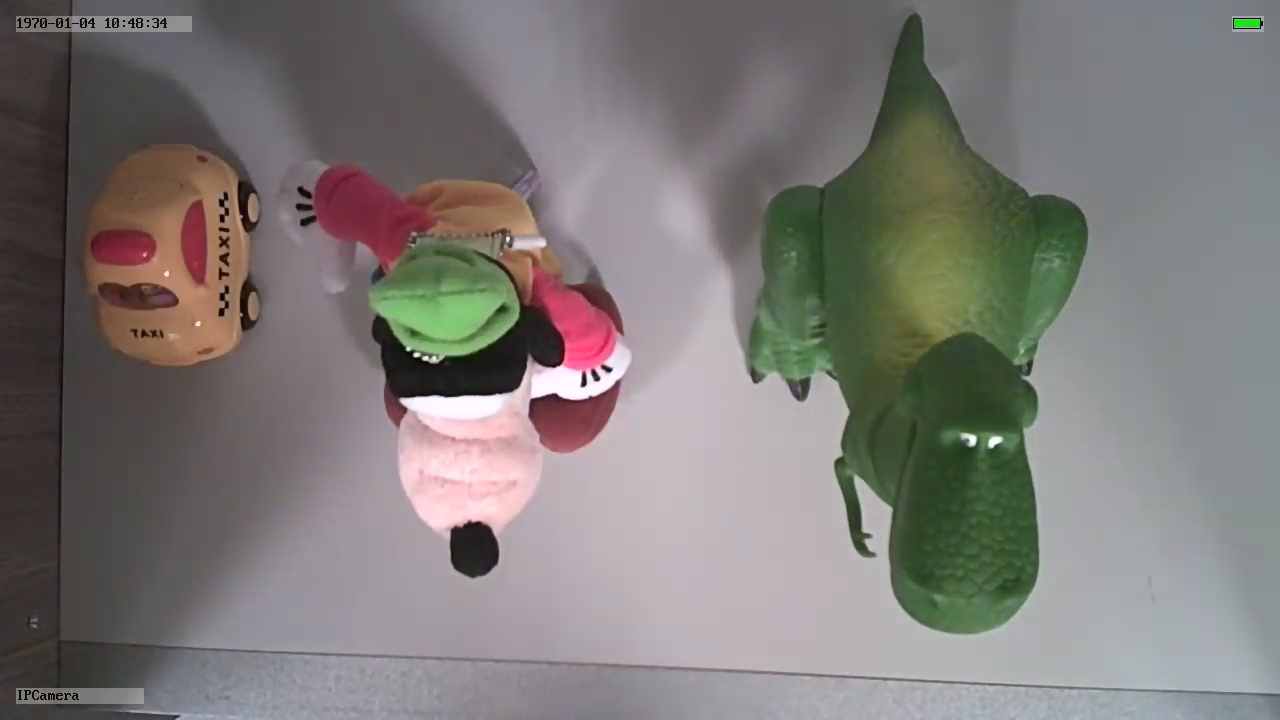car: (80, 138, 262, 371)
goofy: (278, 156, 630, 582)
rex: (748, 94, 1089, 638)
